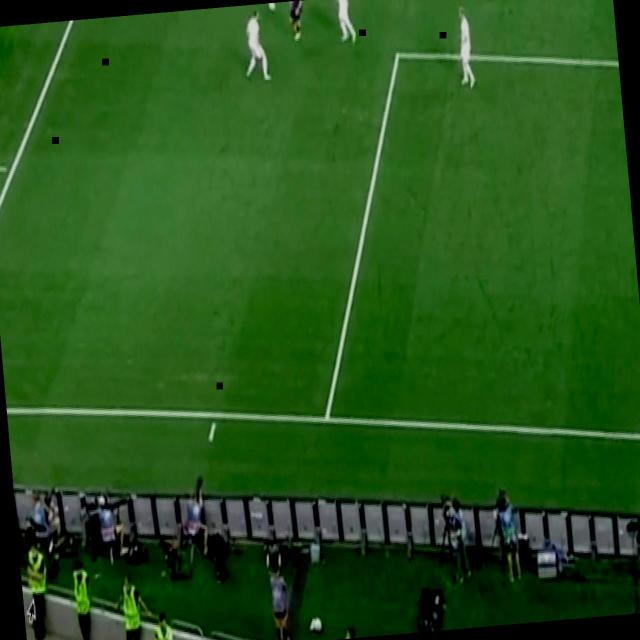ball: (264, 2, 280, 16)
player-white: (238, 5, 274, 86), (452, 0, 479, 94), (331, 0, 362, 47), (286, 0, 309, 47)
